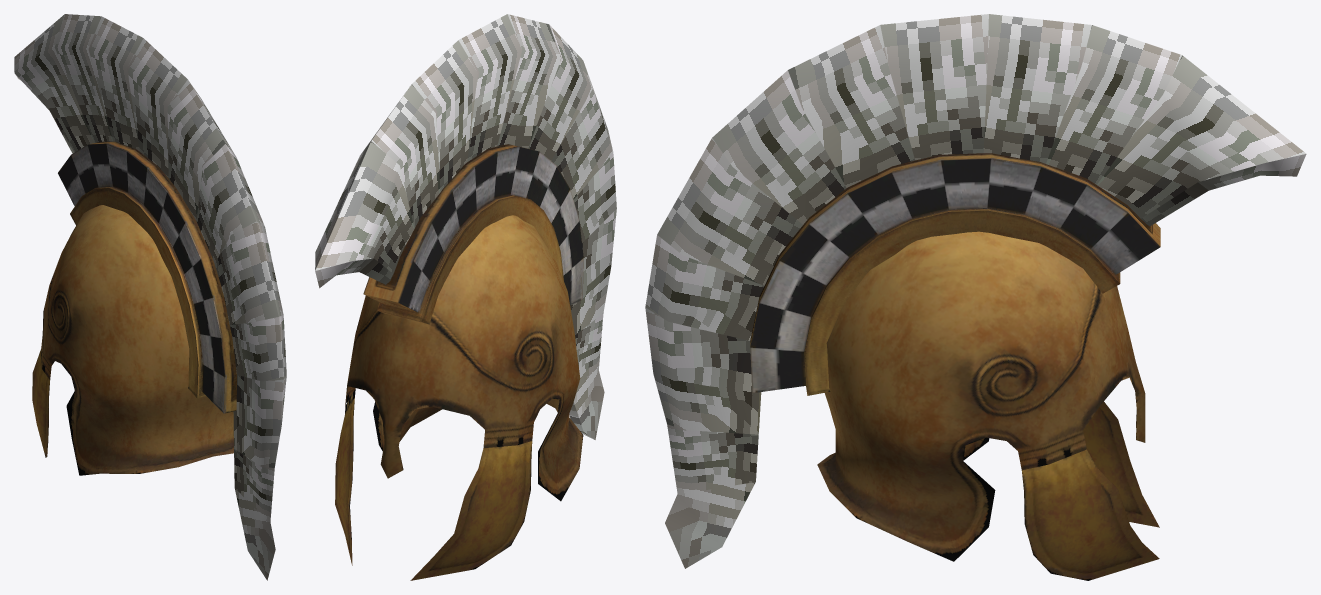
The model's file is helm_hele_chalcidean_a3.glb.
The picture shows the model from 3 angles, left to right: view 1: azimuth 30°, elevation 25°; view 2: azimuth 150°, elevation 25°; view 3: azimuth 270°, elevation 25°; orthographic projection. The views are drawn at different scales.
Visible parts, largest first — view 1: helm_hele_chalcidean_a3_part3, helm_hele_chalcidean_a3_part0, helm_hele_chalcidean_a3_part2, helm_hele_chalcidean_a3_part1; view 2: helm_hele_chalcidean_a3_part3, helm_hele_chalcidean_a3_part0, helm_hele_chalcidean_a3_part2, helm_hele_chalcidean_a3_part1; view 3: helm_hele_chalcidean_a3_part3, helm_hele_chalcidean_a3_part0, helm_hele_chalcidean_a3_part2, helm_hele_chalcidean_a3_part1.
Boxes of the visible parts, left/top/right/bottom form: helm_hele_chalcidean_a3_part3: left=14, top=14, right=286, bottom=580; helm_hele_chalcidean_a3_part0: left=41, top=205, right=233, bottom=475; helm_hele_chalcidean_a3_part2: left=58, top=141, right=236, bottom=413; helm_hele_chalcidean_a3_part1: left=32, top=349, right=49, bottom=457; helm_hele_chalcidean_a3_part3: left=315, top=14, right=616, bottom=439; helm_hele_chalcidean_a3_part0: left=345, top=215, right=583, bottom=501; helm_hele_chalcidean_a3_part2: left=363, top=144, right=583, bottom=324; helm_hele_chalcidean_a3_part1: left=335, top=389, right=532, bottom=580; helm_hele_chalcidean_a3_part3: left=645, top=14, right=1306, bottom=568; helm_hele_chalcidean_a3_part0: left=817, top=231, right=1145, bottom=561; helm_hele_chalcidean_a3_part2: left=750, top=153, right=1160, bottom=395; helm_hele_chalcidean_a3_part1: left=1021, top=401, right=1159, bottom=580.
Bounding box in the file's own units: 0.4345 × 1.12 × 1.21.
4 materials, 4 textured.
